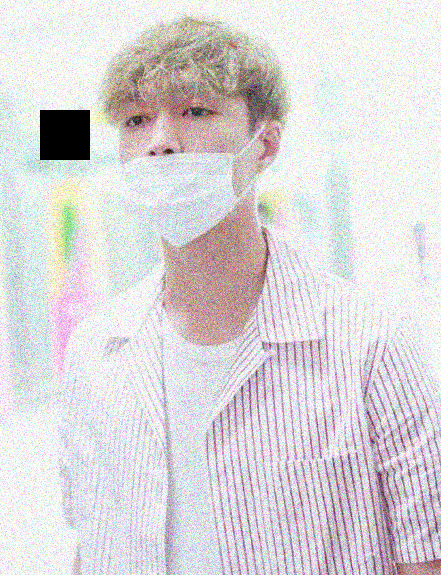mask_weared_incorrect: (113, 97, 252, 251)
